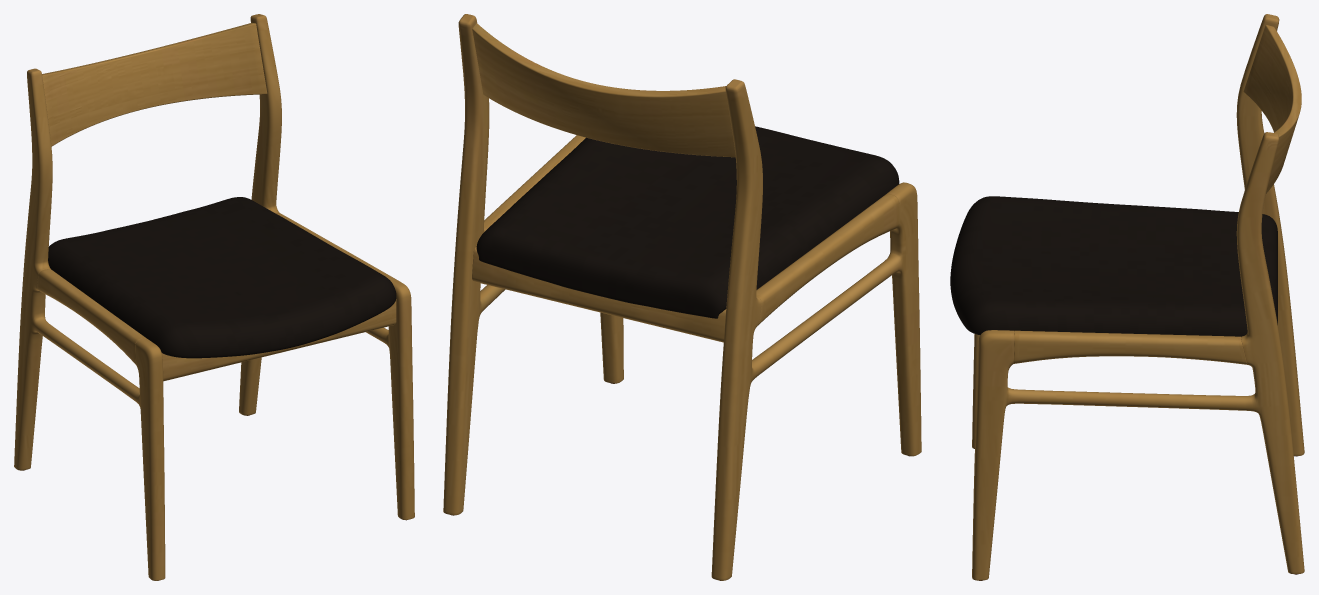
Rendered from wooden_fabric_chair.glb.
The picture shows the model from 3 angles, left to right: view 1: azimuth 30°, elevation 25°; view 2: azimuth 150°, elevation 25°; view 3: azimuth 270°, elevation 25°; orthographic projection. The views are drawn at different scales.
Visible parts, largest first — view 1: Seat cushion, Leg frame, Backrest, Apron; view 2: Seat cushion, Leg frame, Backrest, Apron; view 3: Seat cushion, Leg frame, Backrest.
Boxes of the visible parts, <box> form: Seat cushion: <box>48,197,396,358</box>; Leg frame: <box>14,14,414,580</box>; Backrest: <box>42,23,267,146</box>; Apron: <box>162,299,396,381</box>; Seat cushion: <box>476,126,899,318</box>; Leg frame: <box>443,14,921,580</box>; Backrest: <box>472,23,735,157</box>; Apron: <box>472,246,726,342</box>; Seat cushion: <box>950,196,1277,336</box>; Leg frame: <box>972,14,1304,580</box>; Backrest: <box>1243,25,1301,193</box>.
Bounding box in the file's own units: 0.5201 × 0.7716 × 0.5641.
Materials: 3 (2 with a texture image).
